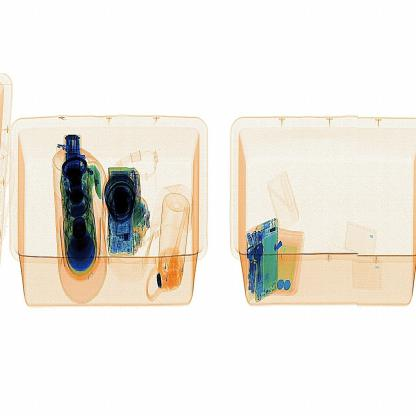scissors: (60, 130, 88, 181)
